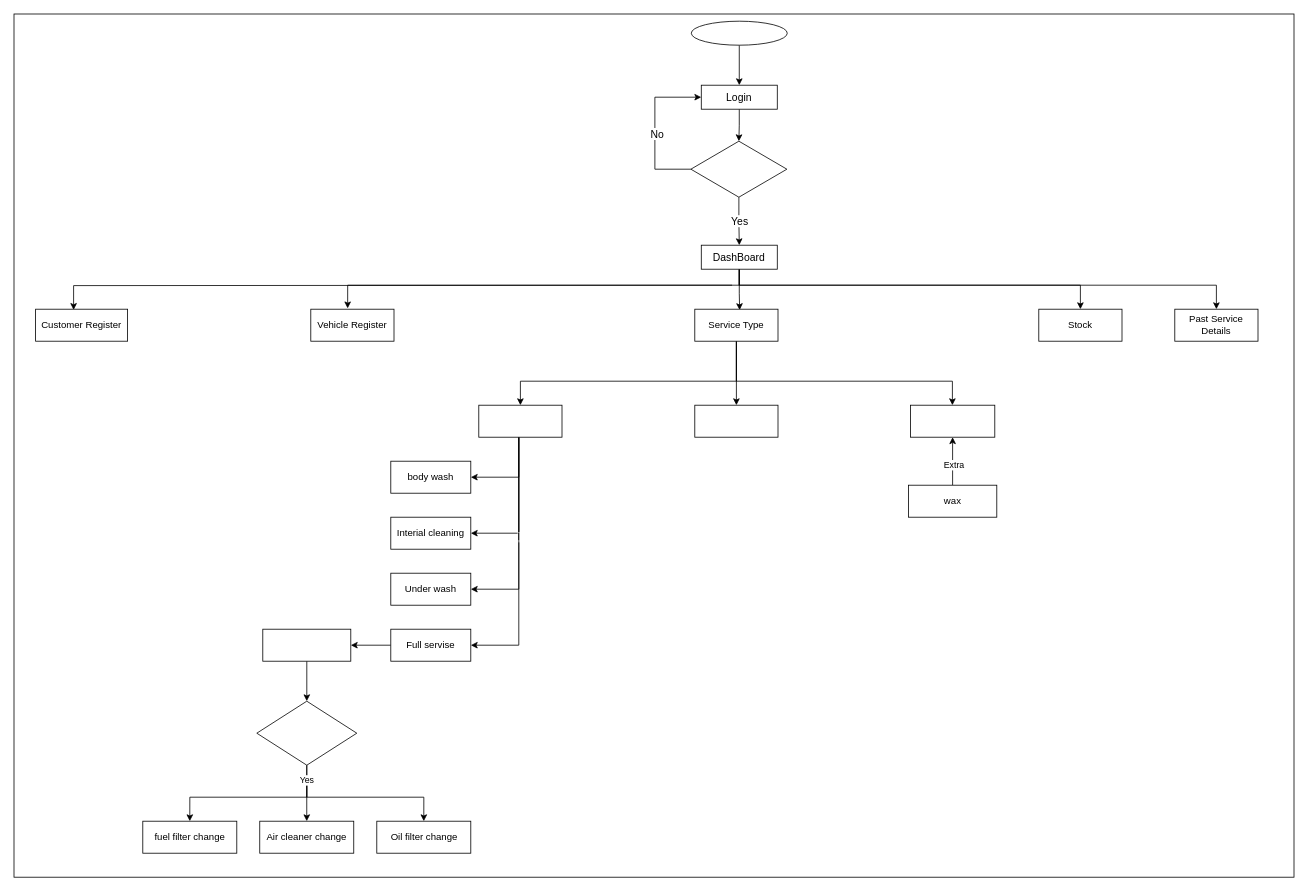
Some shapes in this 1308 by 891 pixel diagram are drawn without their labels. Here are the shapes that lost their labels. From the top down, the box of each, then its label:
(690, 20, 787, 45): Start
(690, 140, 787, 197): Login Success?
(478, 404, 562, 437): Service
(694, 404, 778, 437): Repair
(910, 404, 995, 437): Cut & Polish
(262, 628, 351, 661): Oil Change
(256, 700, 357, 765): Want Extra Services?
